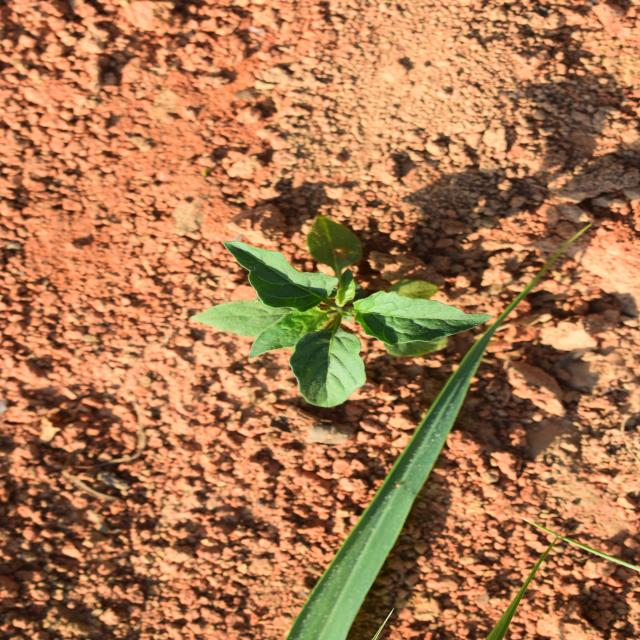Black_nightshade: (244, 193, 408, 475)
